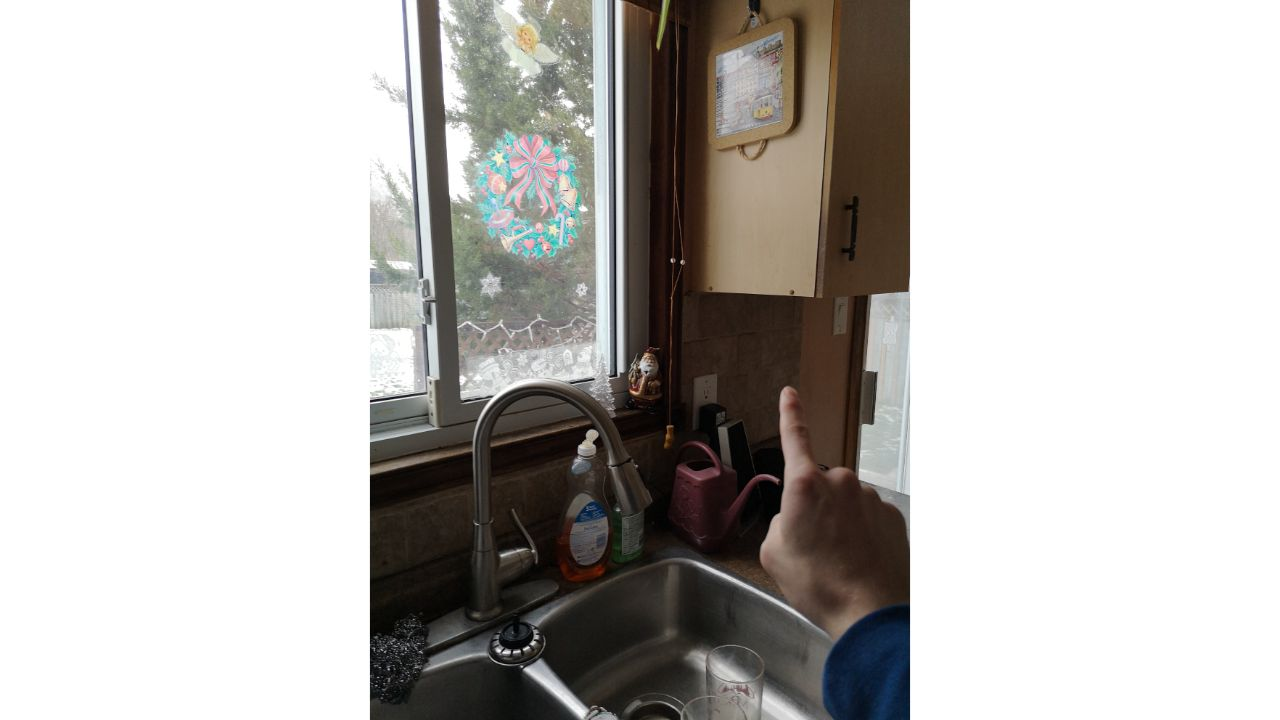finger: (757, 386, 911, 631)
